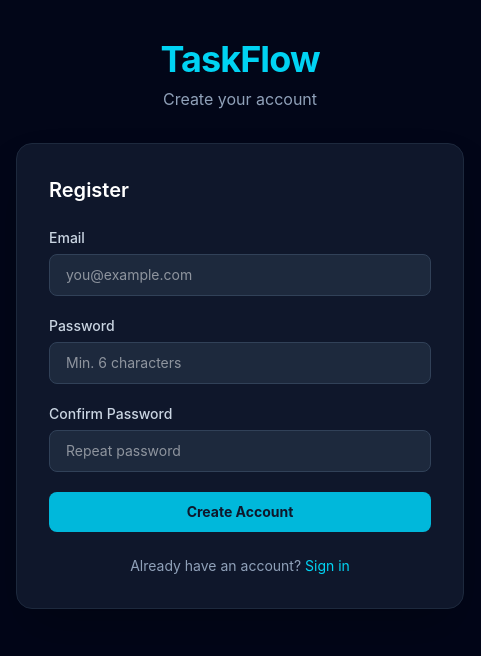
Register Component › 4. shows error for short password
In the password field with placeholder "Min. 6 characters": [240, 363] box [49, 342, 431, 384], type "123"
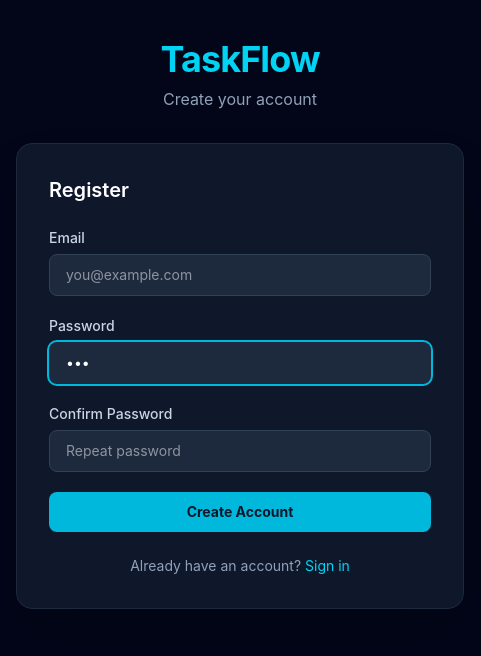
Click the button "Create Account": [240, 512] box [49, 492, 431, 532]
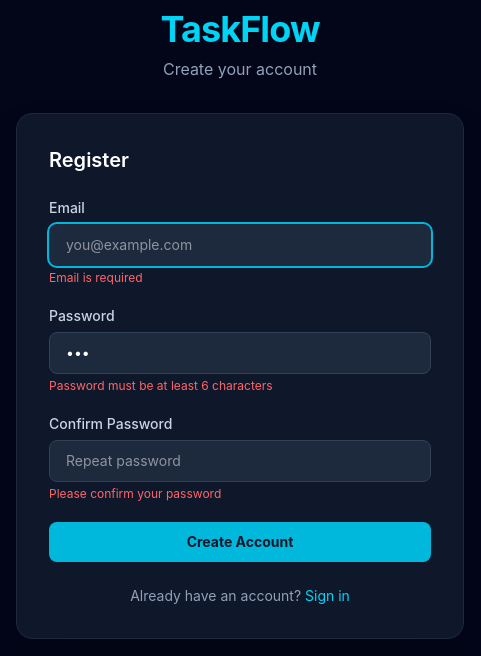
Expected: the text "Password must be at least 6 characters" is shown, [49, 378, 273, 393]
